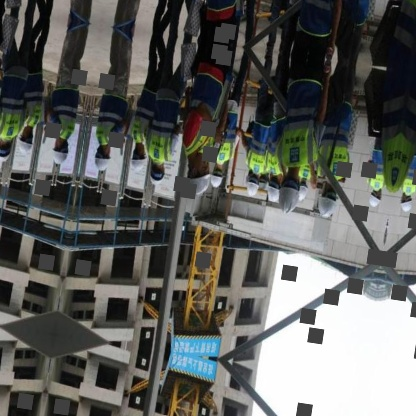vest: (274, 79, 328, 172), (310, 96, 361, 184), (180, 72, 224, 159), (144, 95, 182, 167), (90, 87, 129, 148), (242, 117, 277, 177), (262, 116, 292, 177), (128, 84, 156, 149), (212, 110, 241, 166), (365, 147, 392, 194)
white: (182, 168, 212, 200), (276, 184, 303, 218), (315, 193, 340, 220), (91, 154, 113, 175), (265, 183, 282, 206), (147, 170, 167, 189), (367, 189, 384, 211), (244, 182, 262, 199), (208, 173, 226, 190), (130, 155, 147, 173), (295, 185, 309, 204)
